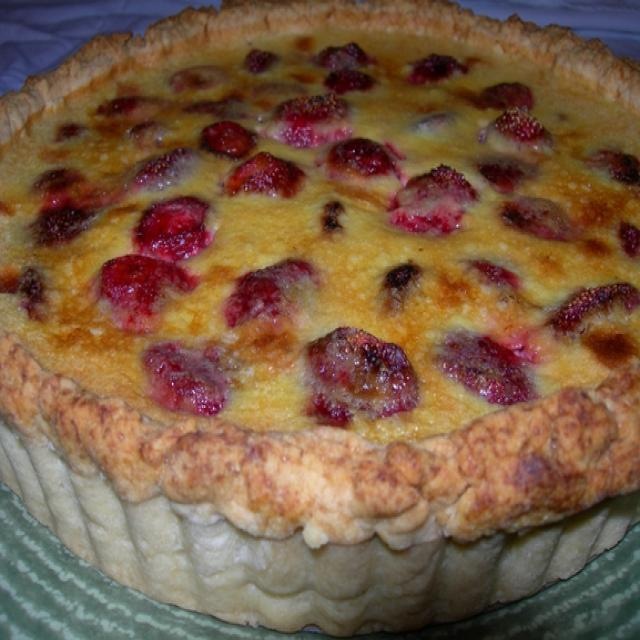炸货点心: (3, 21, 628, 604)
蛋糕甜品: (3, 21, 628, 604)
